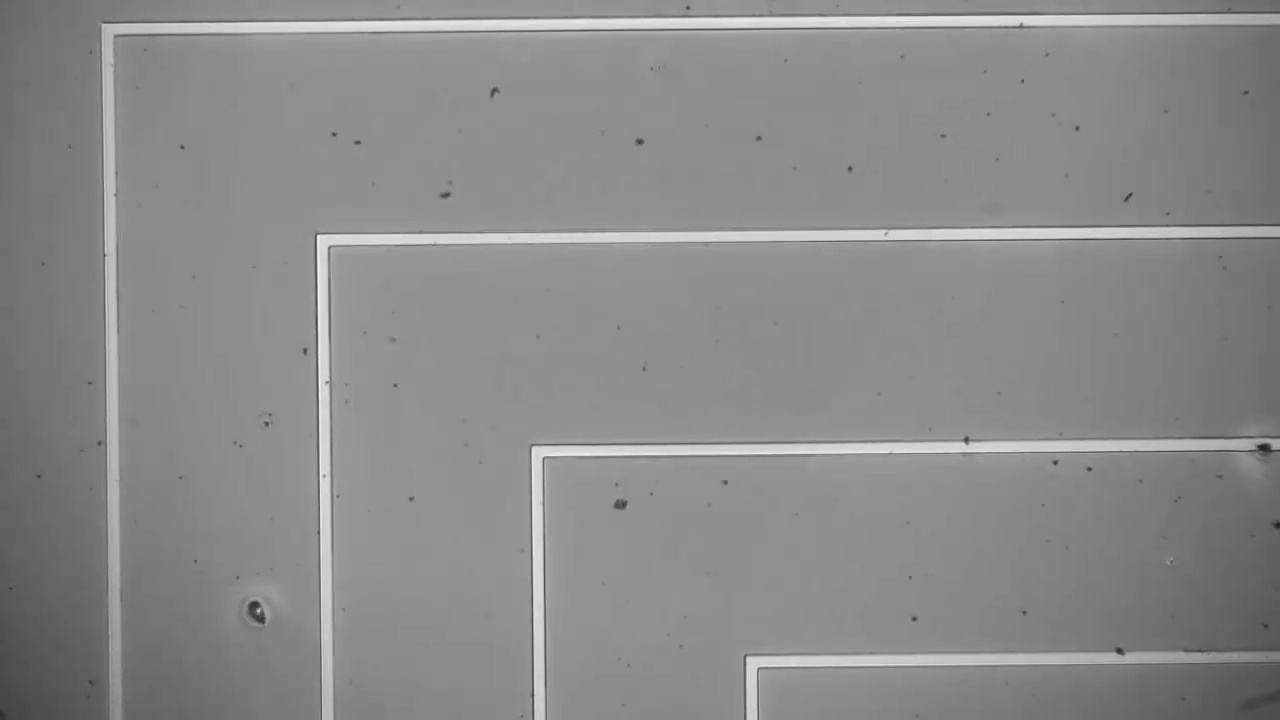stains_enbedded: (1239, 432, 1279, 464)
